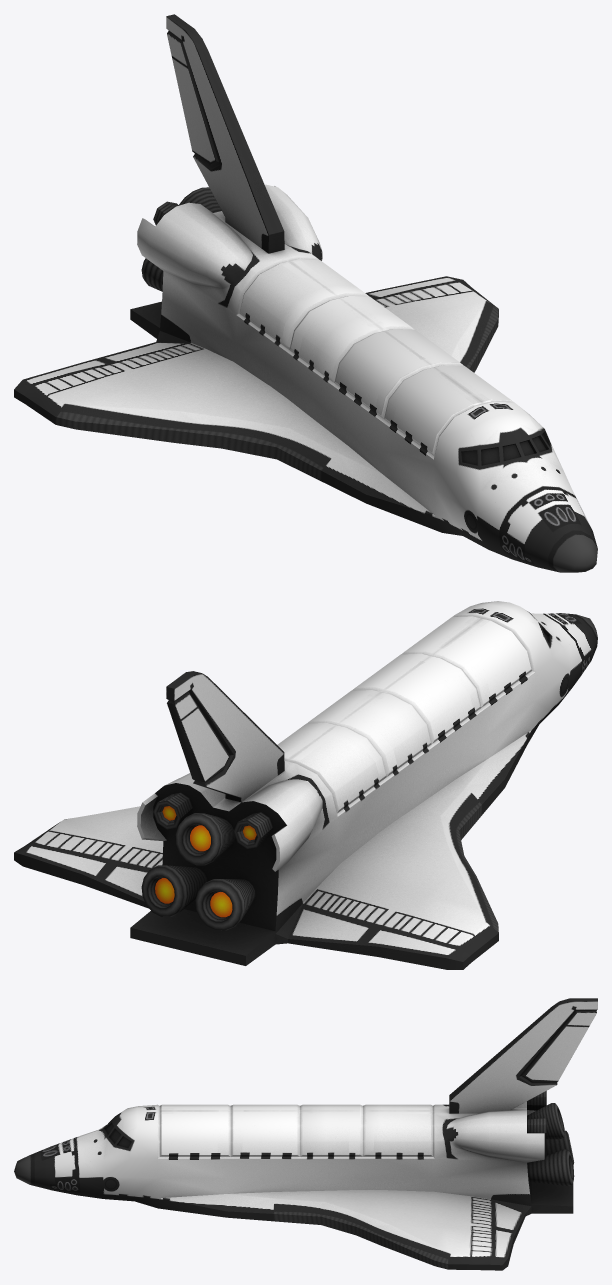
The model's file is shuttle.glb.
3 renders of one model, top to bottom at view 1: azimuth 30°, elevation 25°; view 2: azimuth 150°, elevation 25°; view 3: azimuth 270°, elevation 25°, orthographic. The views are drawn at different scales.
Parts seen in each view (by area): view 1: Object_2; view 2: Object_2; view 3: Object_2.
Part boxes in pixels (box(x1,y1,x2,y2)): Object_2: box(14, 14, 597, 572); Object_2: box(14, 601, 597, 969); Object_2: box(14, 998, 597, 1270).
Size of the model in its own units: 10.14 by 5.98 by 16.29.
1 material, 1 textured.
